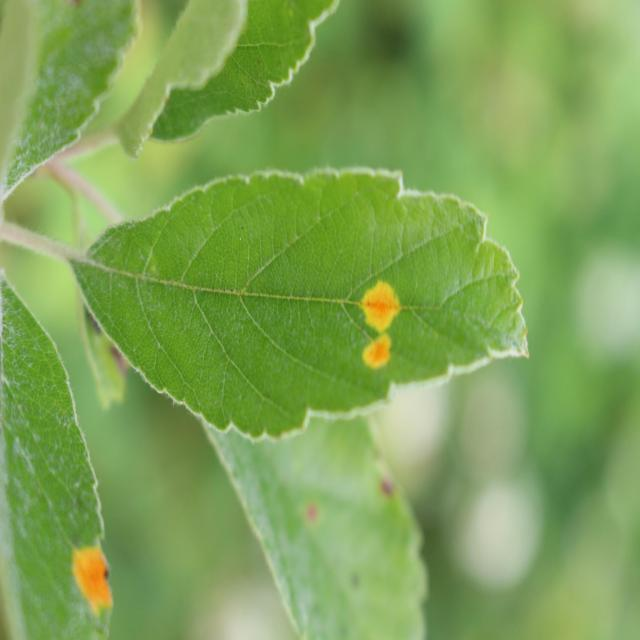Powdery_mildew: (1, 9, 123, 221)
Rust: (351, 272, 410, 377), (68, 538, 116, 622)
